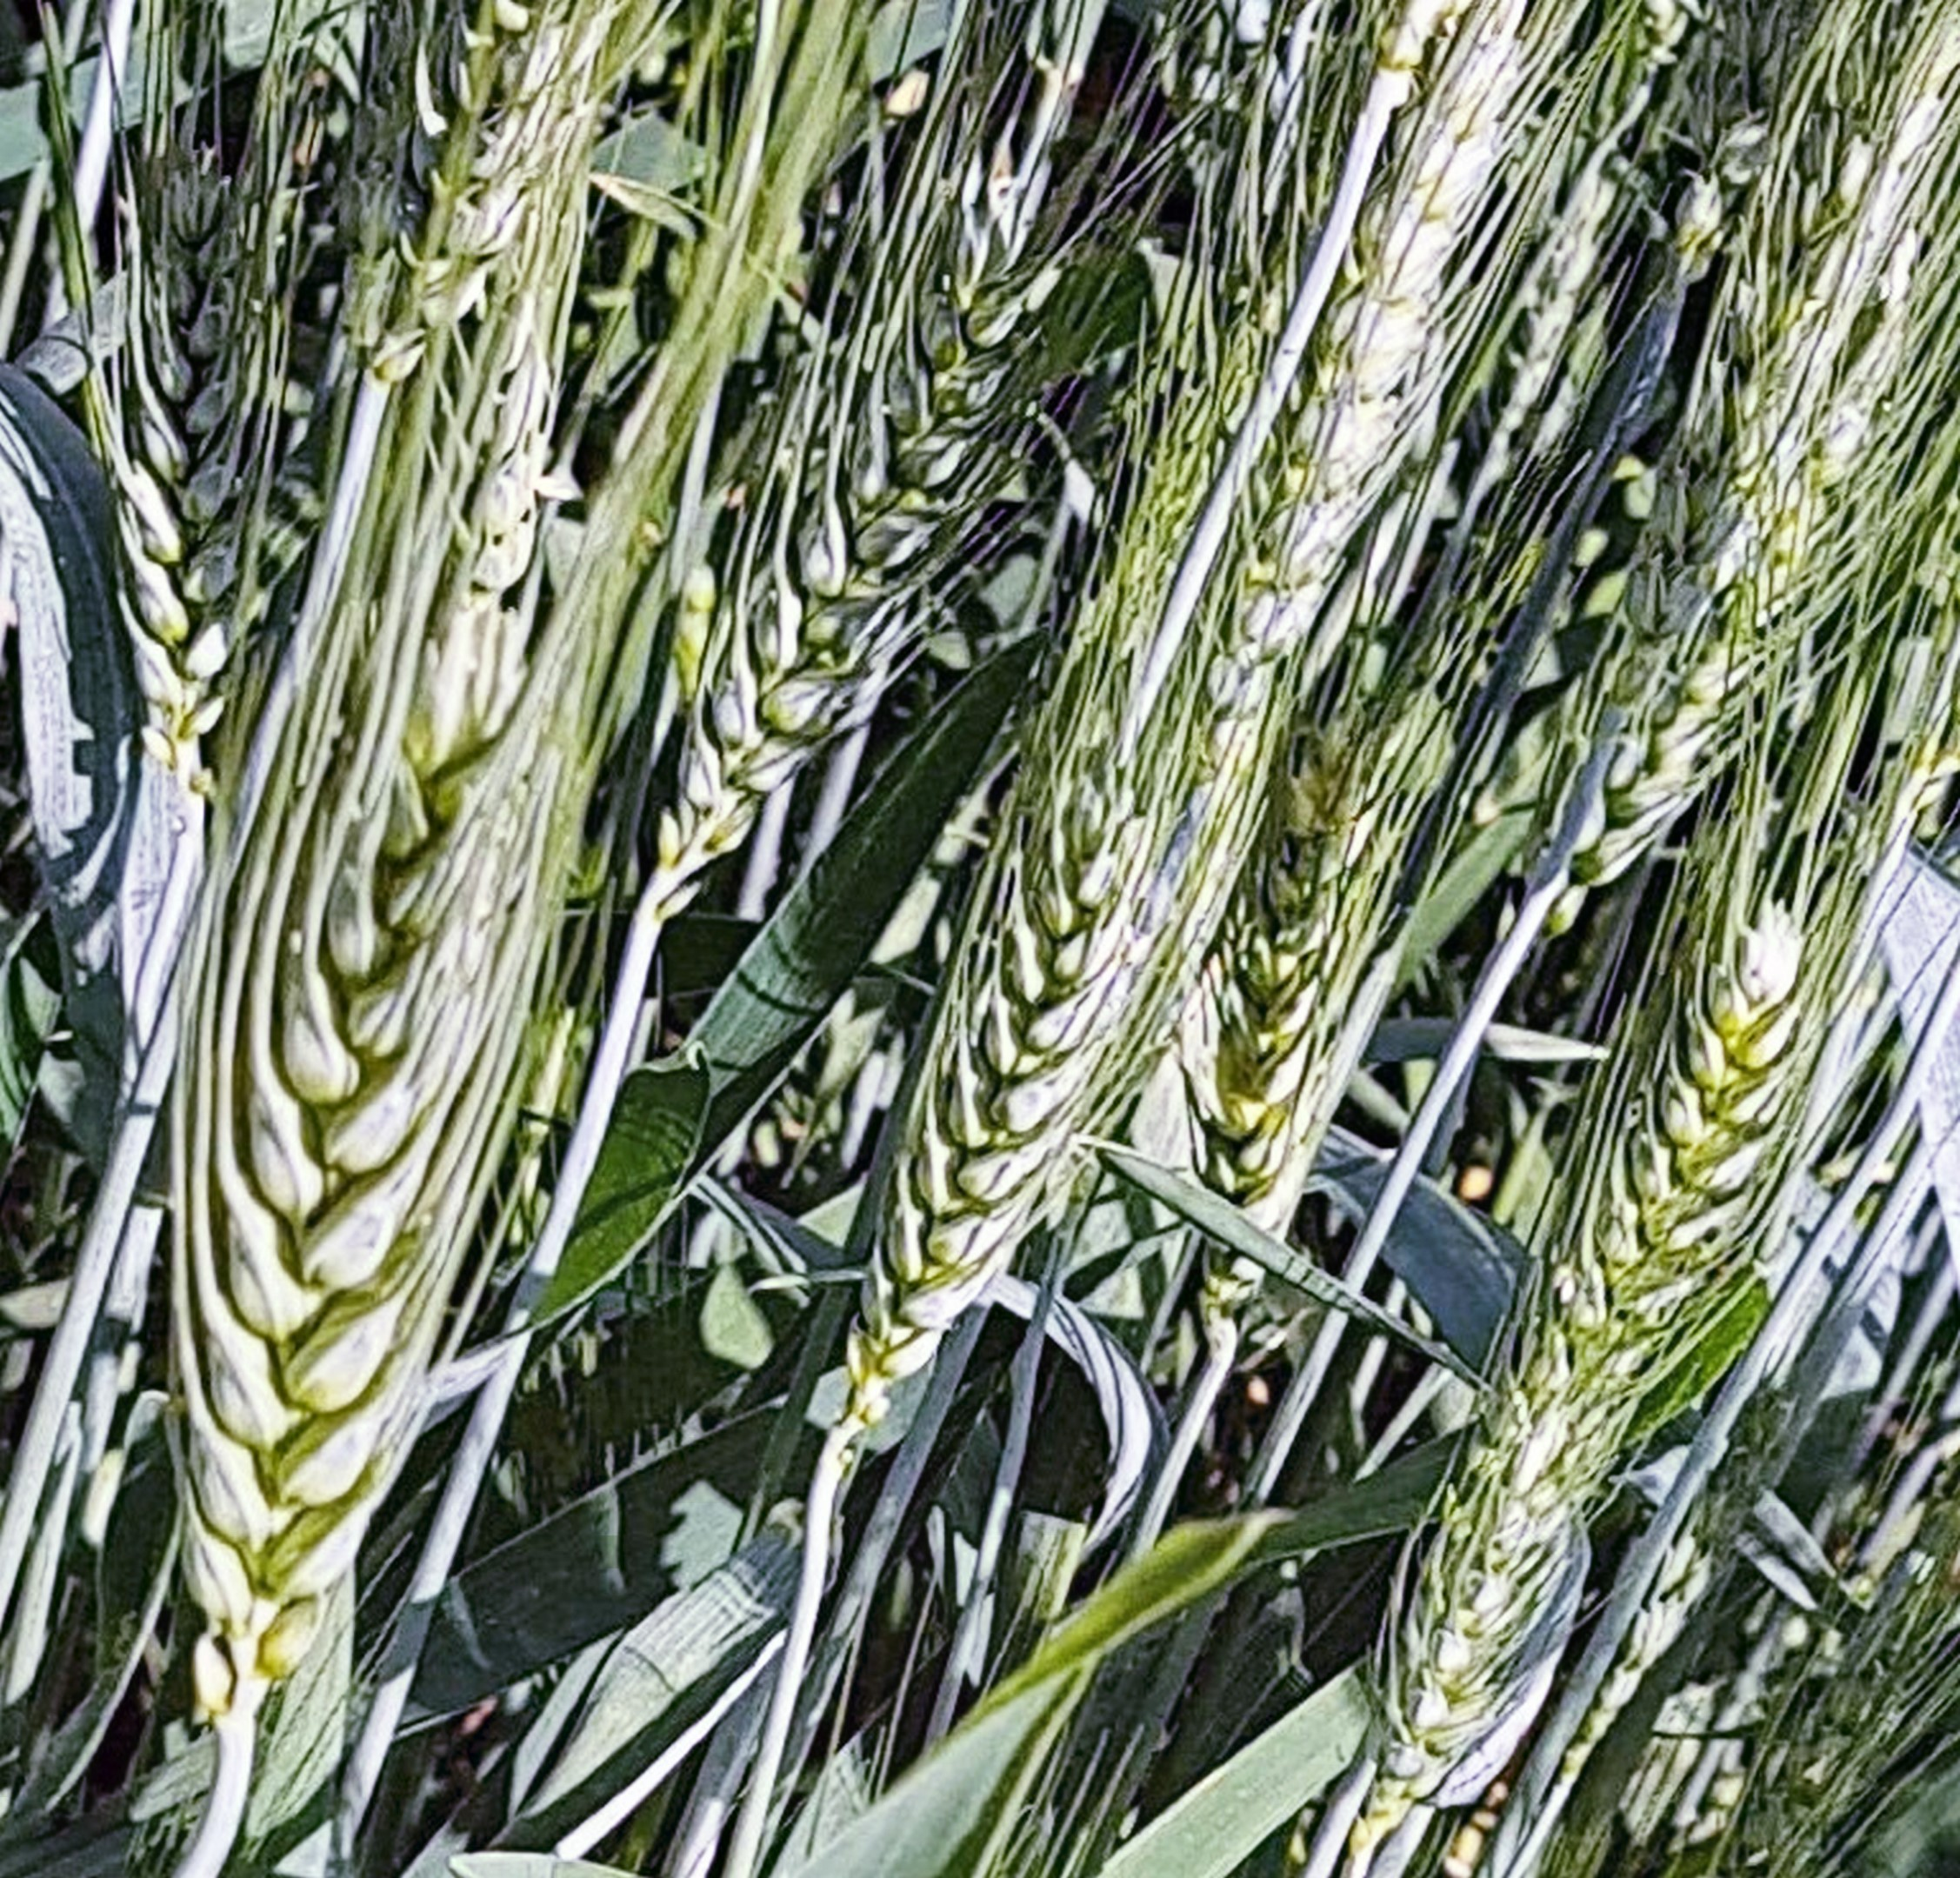Healthy Wheat: (147, 809, 514, 1687), (808, 781, 1160, 1412)
